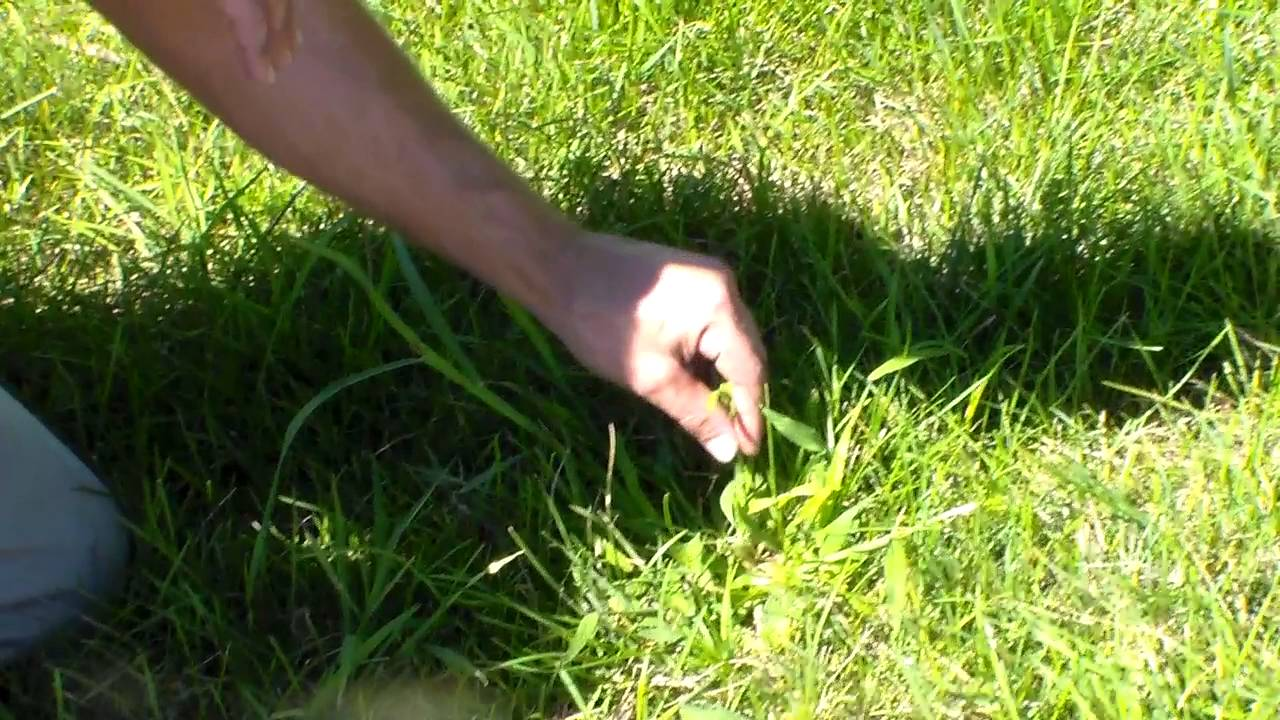crabgrass: (411, 316, 947, 601), (959, 595, 1229, 720)
